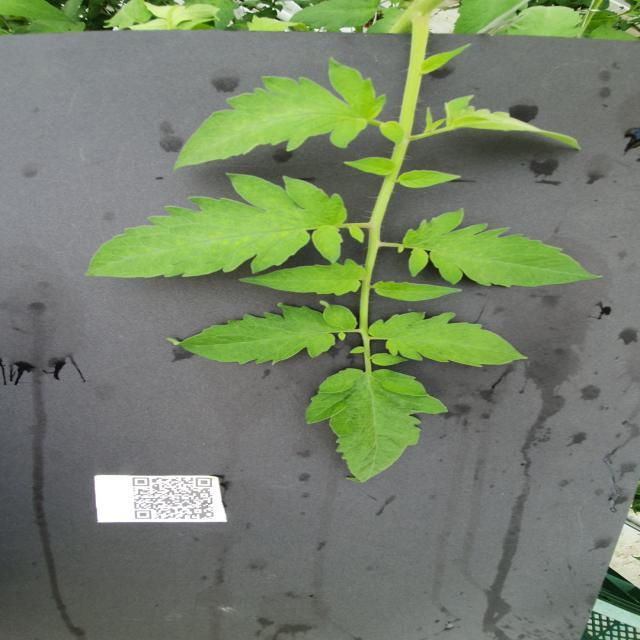Tomato healthy leaf: (86, 173, 348, 279), (172, 56, 386, 170), (305, 368, 449, 482), (398, 208, 603, 288), (166, 300, 358, 366), (367, 312, 528, 367), (442, 92, 584, 152), (238, 258, 366, 296), (288, 0, 379, 29), (373, 280, 462, 302), (397, 170, 462, 188), (342, 156, 396, 176), (380, 120, 406, 146)
